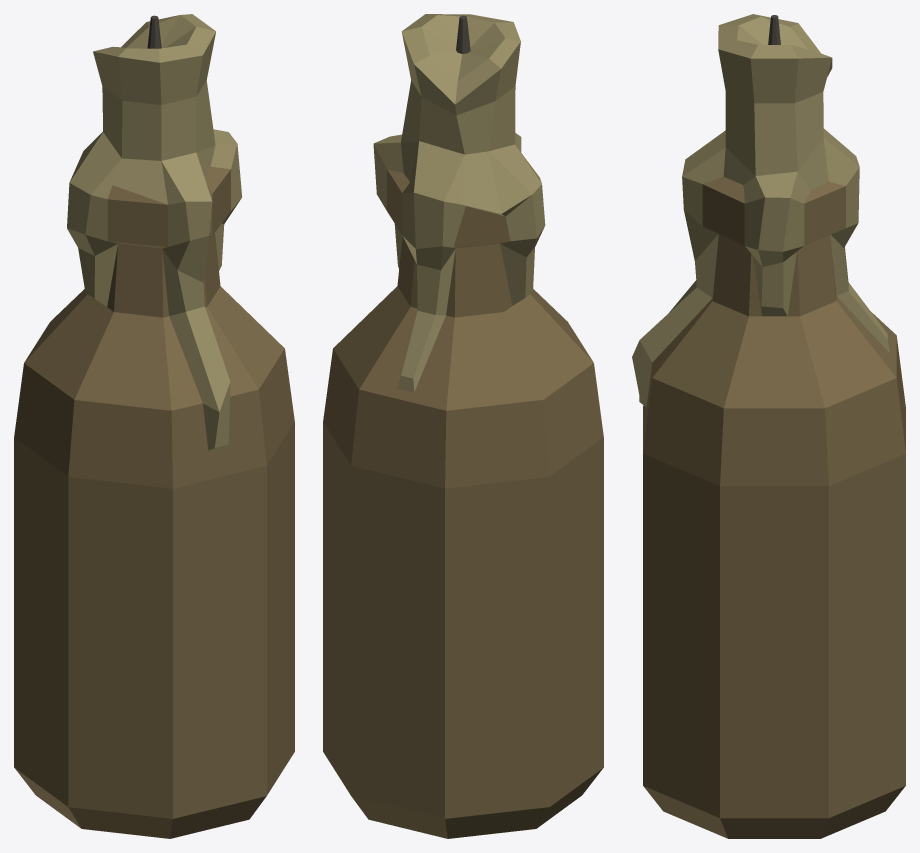
Rendered from CandleBottle_1.fbx.
The picture shows the model from 3 angles, left to right: view 1: azimuth 30°, elevation 25°; view 2: azimuth 150°, elevation 25°; view 3: azimuth 270°, elevation 25°; orthographic projection.
Visible parts, largest first — view 1: CandleBottle_1; view 2: CandleBottle_1; view 3: CandleBottle_1.
Boxes of the visible parts, box(x1,y1,x2,y2) form: CandleBottle_1: box(14, 14, 294, 838); CandleBottle_1: box(323, 14, 603, 838); CandleBottle_1: box(632, 14, 905, 838).
Bounding box in the file's own units: 8.12 × 26.4 × 8.45.
